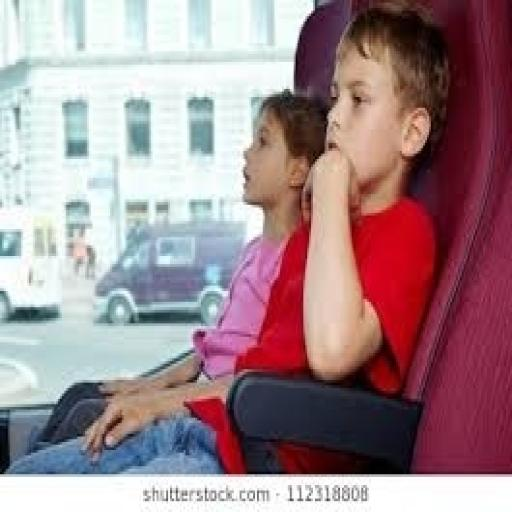sitting: (4, 0, 452, 474)
